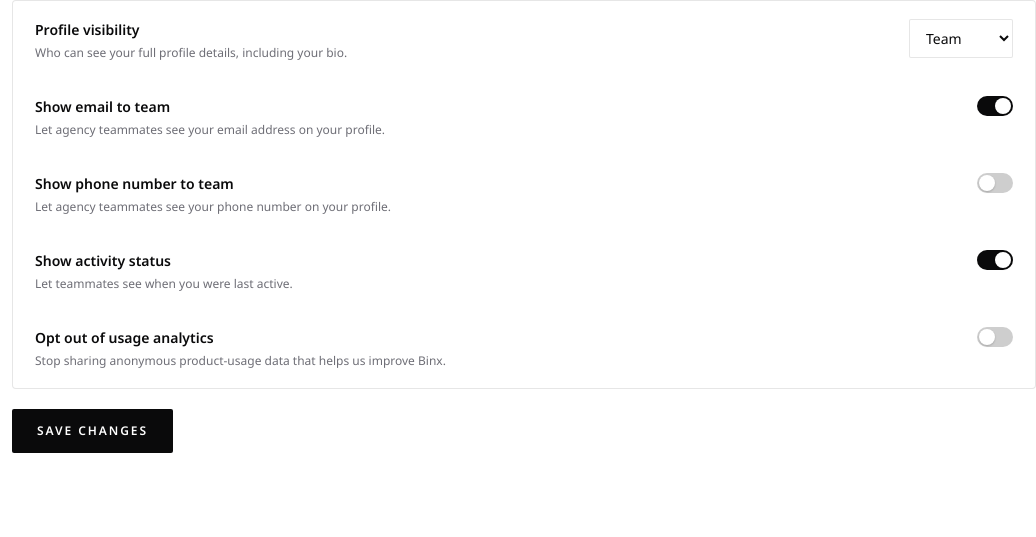
Test: PrivacySettingsForm › shows the server error on failure
The image size is (1036, 537).
Click the button "Save changes" at (92, 431), box [12,409,173,453]
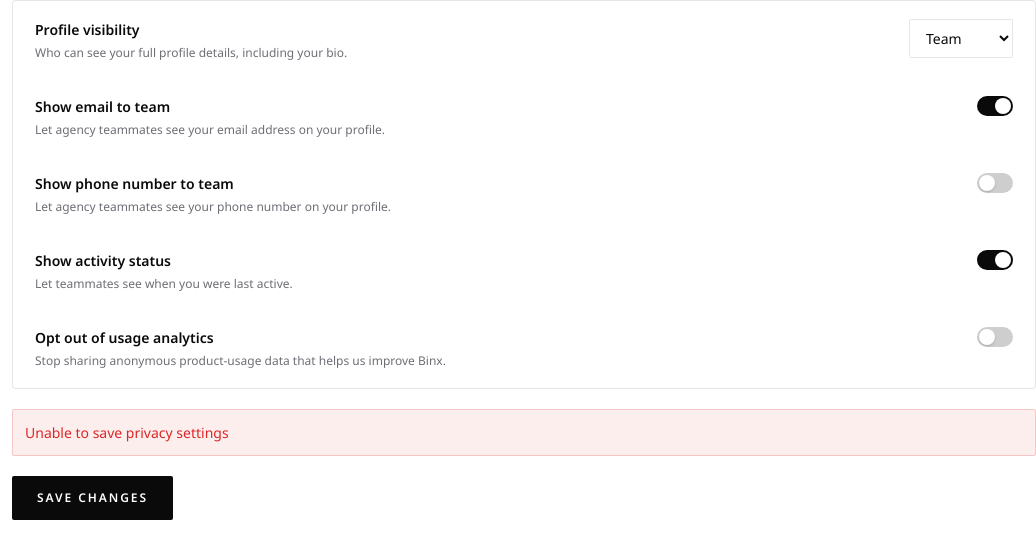
Result: the text "Unable to save privacy settings" is shown at [12,409,1035,456]
